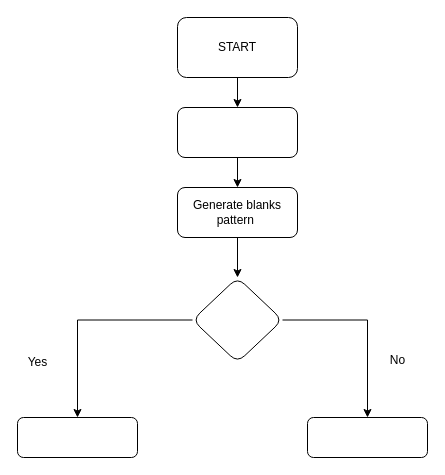
Image size: 445x475. Some labels were removed from this diagram. Here are the shapes that lost their labels. From the top down, the box of each, then its label:
(176, 106, 298, 158): Generate random word
(192, 276, 282, 362): Is the letter correct?
